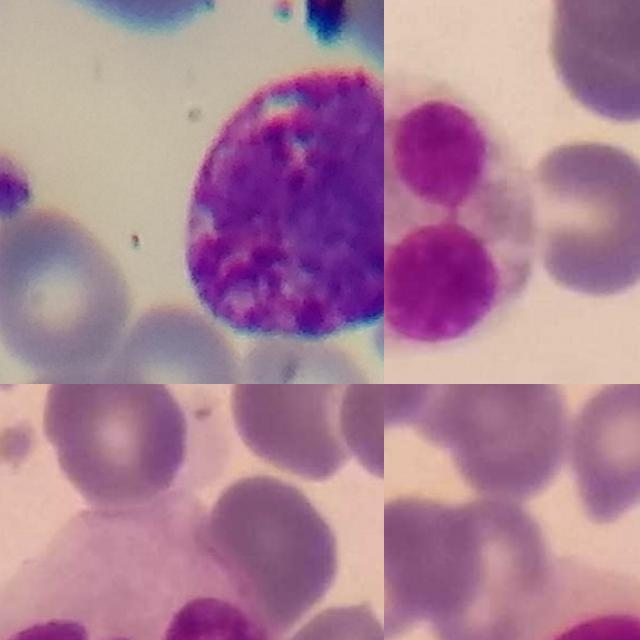Basophil: (187, 66, 384, 342)
Eosinophil: (384, 66, 535, 360)
Monocyte: (0, 497, 281, 640)
